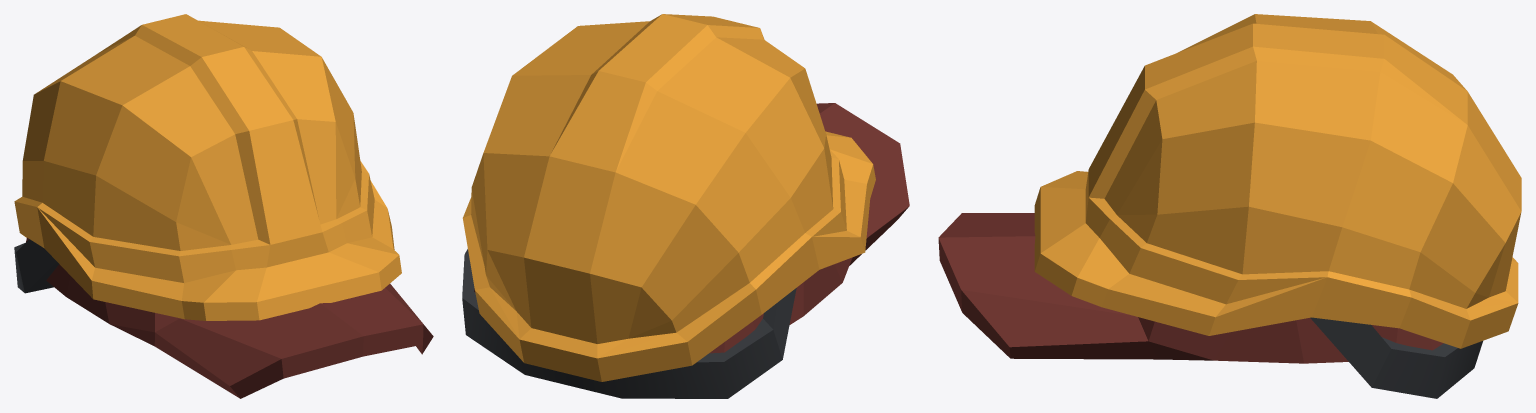
The model's file is SM_Chr_Attach_Helmet_Hat_01.fbx.
3 renders of one model, left to right at view 1: azimuth 30°, elevation 25°; view 2: azimuth 150°, elevation 25°; view 3: azimuth 270°, elevation 25°, orthographic. The views are drawn at different scales.
Visible parts, largest first — view 1: SM_Chr_Attach_Helmet_Hat_01; view 2: SM_Chr_Attach_Helmet_Hat_01; view 3: SM_Chr_Attach_Helmet_Hat_01.
Part boxes in pixels (x1,y1,x2,y2): SM_Chr_Attach_Helmet_Hat_01: (14, 14, 433, 398); SM_Chr_Attach_Helmet_Hat_01: (462, 14, 909, 398); SM_Chr_Attach_Helmet_Hat_01: (938, 14, 1521, 398).
Bounding box in the file's own units: 29.63 × 25.4 × 43.95.
